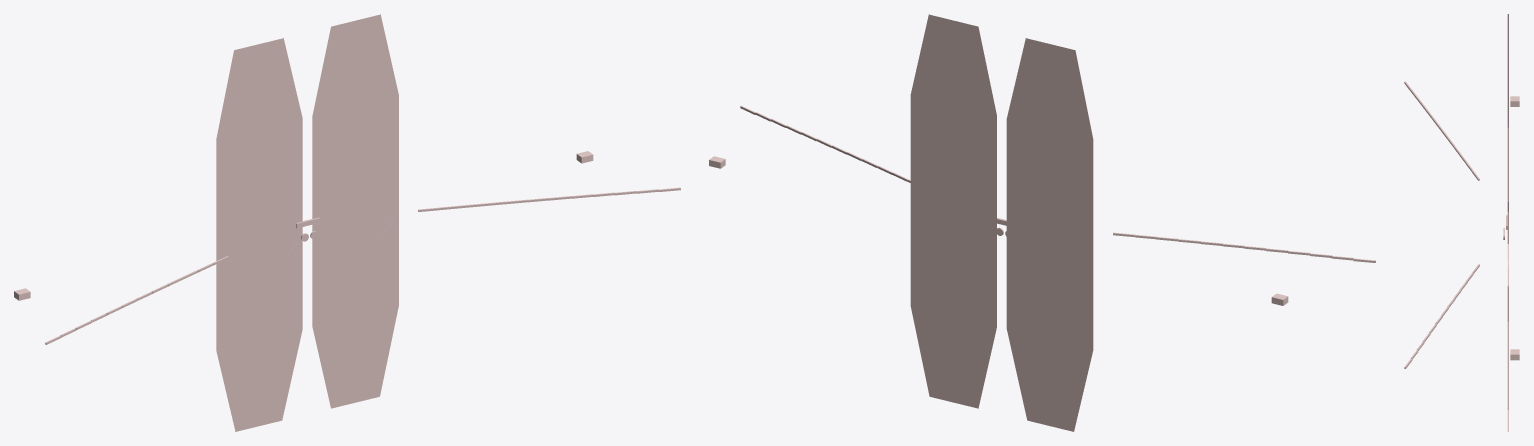
3 views of the same model, side by side, from view 1: azimuth 30°, elevation 25°; view 2: azimuth 150°, elevation 25°; view 3: azimuth 270°, elevation 25° (orthographic). The views are drawn at different scales.
Parts seen in each view (by area): view 1: RightRim, LeftRim, Frame, RightTemple, LeftTemple; view 2: LeftRim, RightRim, Frame, LeftTemple, RightTemple; view 3: RightRim, RightTemple, LeftTemple, TempleTips, Frame.
Boxes of the visible parts, x1,y1,x2,y2 form: RightRim: (312, 14, 398, 408); LeftRim: (216, 38, 302, 431); Frame: (223, 170, 392, 274); RightTemple: (418, 187, 680, 211); LeftTemple: (45, 256, 228, 344); LeftRim: (1006, 38, 1093, 431); RightRim: (910, 14, 996, 408); Frame: (917, 170, 1086, 274); LeftTemple: (1113, 232, 1375, 262); RightTemple: (740, 105, 910, 182); RightRim: (1507, 57, 1508, 431); RightTemple: (1404, 264, 1479, 368); LeftTemple: (1404, 81, 1479, 180); TempleTips: (1510, 96, 1519, 360); Frame: (1506, 202, 1508, 286).
Bounding box in the file's own units: 436 × 251 × 74.29.
